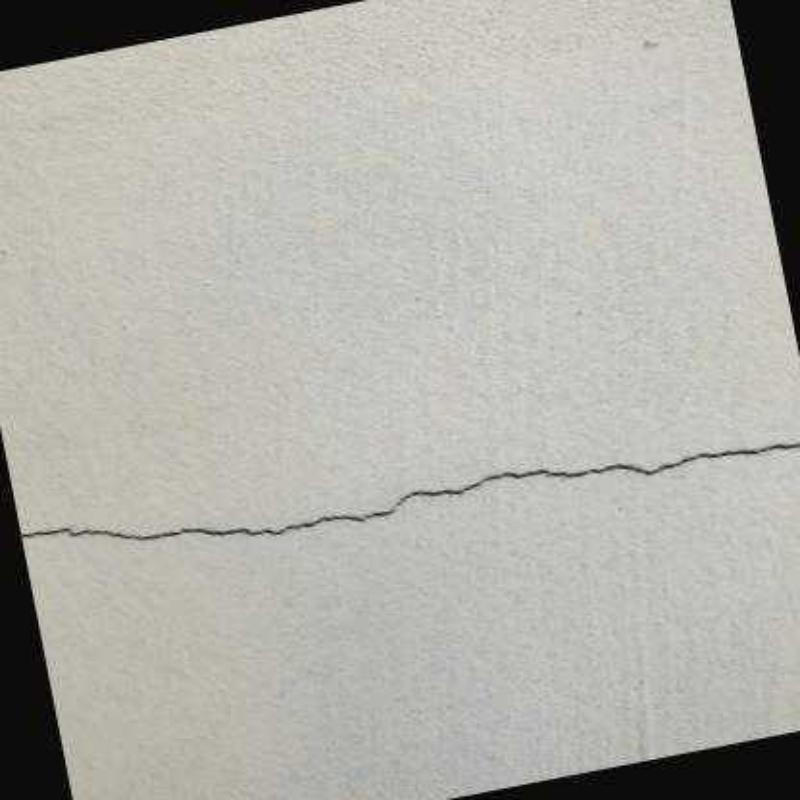crack: (20, 441, 800, 542)
